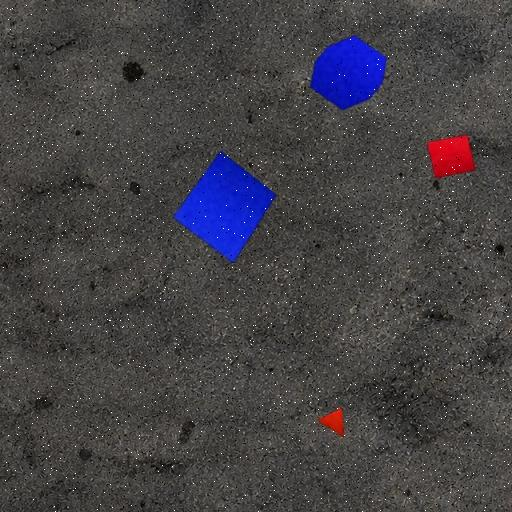BLUE_SQUARE: (172, 150, 278, 264)
RED_SQUARE: (426, 134, 476, 180)
